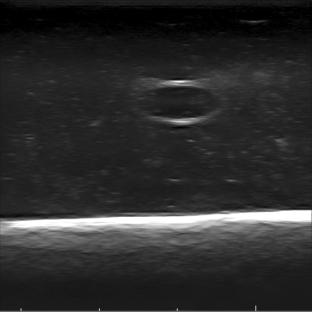vessel: (138, 80, 222, 125)
